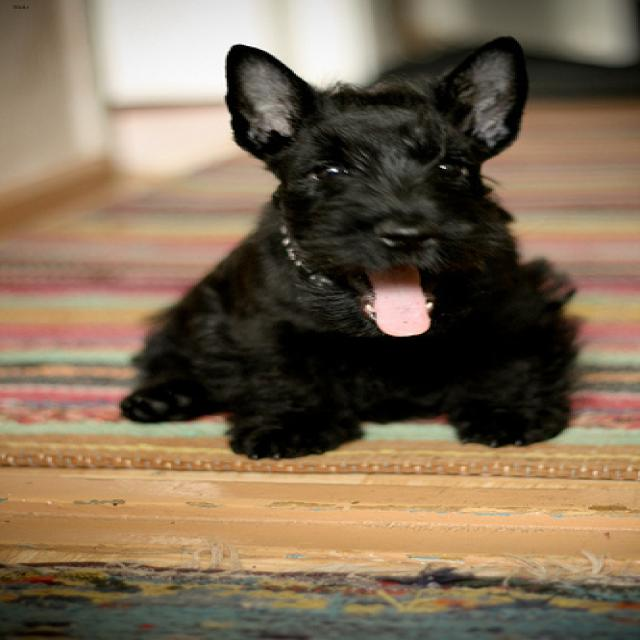dog-scottish_terrier: (98, 27, 594, 468)
